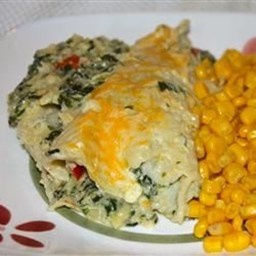background: (3, 6, 102, 100)
